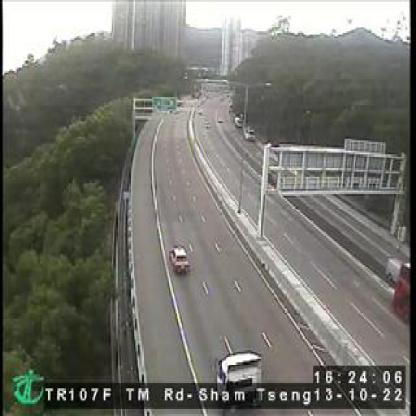Car: (170, 245, 191, 276), (244, 126, 256, 144)
Truck: (214, 350, 281, 415)
